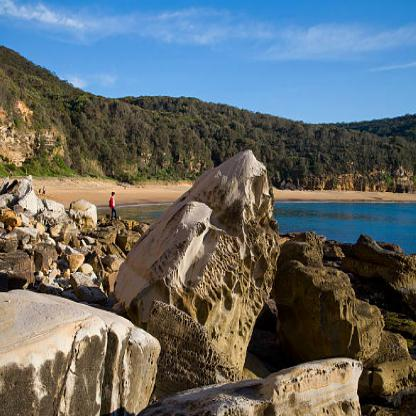Sedimentary_Sandstone: (131, 138, 280, 383), (0, 279, 162, 415), (146, 357, 369, 415), (283, 247, 394, 350)
